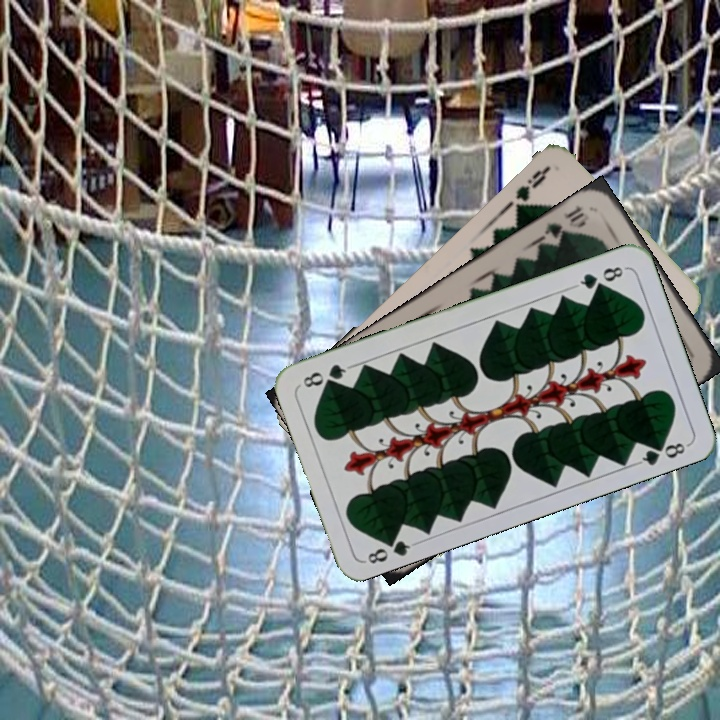G10: (539, 200, 589, 243)
G8: (361, 530, 419, 567), (571, 262, 629, 292)
G9: (511, 163, 552, 215)
